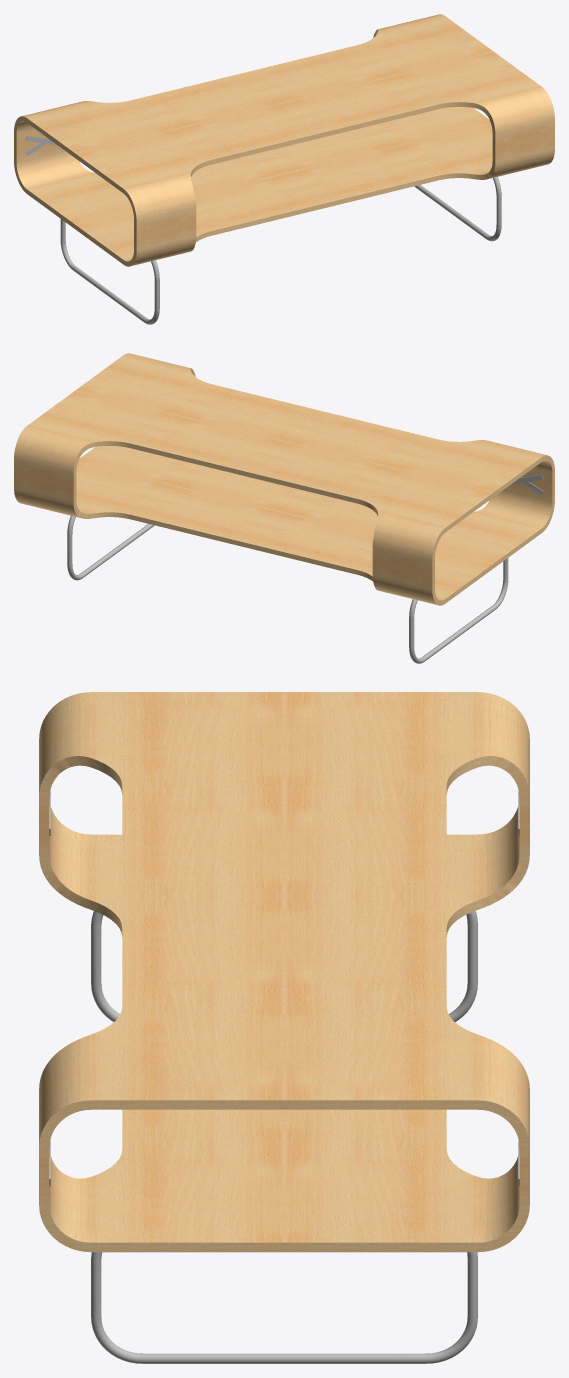
3 renders of one model, top to bottom at view 1: azimuth 30°, elevation 25°; view 2: azimuth 150°, elevation 25°; view 3: azimuth 270°, elevation 25°, orthographic. The views are drawn at different scales.
Visible parts, largest first — view 1: Mesh4_Buskbo1_3_Component_1_2_Group1_Model, Mesh1_Buskbo1_1_Component_1_1_Group1_Model, Mesh2_Buskbo1_2_Component_1_1_Group1_Model, Mesh10_Buskbo1_7_Component_1_4_Group1_Model, Mesh7_Buskbo1_5_Component_1_3_Group1_Model, Mesh5_Buskbo1_4_Component_1_2_Group1_Model, Mesh11_Buskbo1_8_Component_1_4_Group1_Model, Mesh8_Buskbo1_6_Component_1_3_Group1_Model, Mesh13_Boskbo_Leg1_1_Model, Mesh14_Boskbo_Leg1_2_Model; view 2: Mesh10_Buskbo1_7_Component_1_4_Group1_Model, Mesh7_Buskbo1_5_Component_1_3_Group1_Model, Mesh8_Buskbo1_6_Component_1_3_Group1_Model, Mesh4_Buskbo1_3_Component_1_2_Group1_Model, Mesh1_Buskbo1_1_Component_1_1_Group1_Model, Mesh11_Buskbo1_8_Component_1_4_Group1_Model, Mesh5_Buskbo1_4_Component_1_2_Group1_Model, Mesh2_Buskbo1_2_Component_1_1_Group1_Model, Mesh13_Boskbo_Leg1_1_Model, Mesh14_Boskbo_Leg1_2_Model; view 3: Mesh7_Buskbo1_5_Component_1_3_Group1_Model, Mesh1_Buskbo1_1_Component_1_1_Group1_Model, Mesh4_Buskbo1_3_Component_1_2_Group1_Model, Mesh10_Buskbo1_7_Component_1_4_Group1_Model, Mesh2_Buskbo1_2_Component_1_1_Group1_Model, Mesh8_Buskbo1_6_Component_1_3_Group1_Model, Mesh5_Buskbo1_4_Component_1_2_Group1_Model, Mesh11_Buskbo1_8_Component_1_4_Group1_Model, Mesh14_Boskbo_Leg1_2_Model, Mesh13_Boskbo_Leg1_1_Model.
Boxes of the visible parts, x1,y1,x2,y2 form: Mesh4_Buskbo1_3_Component_1_2_Group1_Model: (75,102,324,236); Mesh1_Buskbo1_1_Component_1_1_Group1_Model: (285,51,554,148); Mesh2_Buskbo1_2_Component_1_1_Group1_Model: (285,123,554,207); Mesh10_Buskbo1_7_Component_1_4_Group1_Model: (14,73,283,157); Mesh7_Buskbo1_5_Component_1_3_Group1_Model: (244,14,493,102); Mesh5_Buskbo1_4_Component_1_2_Group1_Model: (75,173,324,266); Mesh11_Buskbo1_8_Component_1_4_Group1_Model: (14,143,283,228); Mesh8_Buskbo1_6_Component_1_3_Group1_Model: (257,107,490,173); Mesh13_Boskbo_Leg1_1_Model: (60,219,159,324); Mesh14_Boskbo_Leg1_2_Model: (414,177,501,241); Mesh10_Buskbo1_7_Component_1_4_Group1_Model: (244,441,493,575); Mesh7_Buskbo1_5_Component_1_3_Group1_Model: (14,390,283,487); Mesh8_Buskbo1_6_Component_1_3_Group1_Model: (14,462,283,546); Mesh4_Buskbo1_3_Component_1_2_Group1_Model: (285,412,554,496); Mesh1_Buskbo1_1_Component_1_1_Group1_Model: (75,353,324,441); Mesh11_Buskbo1_8_Component_1_4_Group1_Model: (244,512,493,605); Mesh5_Buskbo1_4_Component_1_2_Group1_Model: (285,482,554,567); Mesh2_Buskbo1_2_Component_1_1_Group1_Model: (78,446,311,512); Mesh13_Boskbo_Leg1_1_Model: (409,558,508,663); Mesh14_Boskbo_Leg1_2_Model: (67,515,154,580); Mesh7_Buskbo1_5_Component_1_3_Group1_Model: (284,896,529,1176); Mesh1_Buskbo1_1_Component_1_1_Group1_Model: (39,896,284,1176); Mesh4_Buskbo1_3_Component_1_2_Group1_Model: (39,692,284,896); Mesh10_Buskbo1_7_Component_1_4_Group1_Model: (284,692,529,896); Mesh2_Buskbo1_2_Component_1_1_Group1_Model: (39,1109,284,1252); Mesh8_Buskbo1_6_Component_1_3_Group1_Model: (284,1109,529,1252); Mesh5_Buskbo1_4_Component_1_2_Group1_Model: (39,806,122,936); Mesh11_Buskbo1_8_Component_1_4_Group1_Model: (446,806,529,936); Mesh14_Boskbo_Leg1_2_Model: (91,1252,477,1363); Mesh13_Boskbo_Leg1_1_Model: (91,911,477,1021).
Size of the model in its own units: 1.94 by 0.6719 by 0.9844.
Materials: 3 (2 with a texture image).
